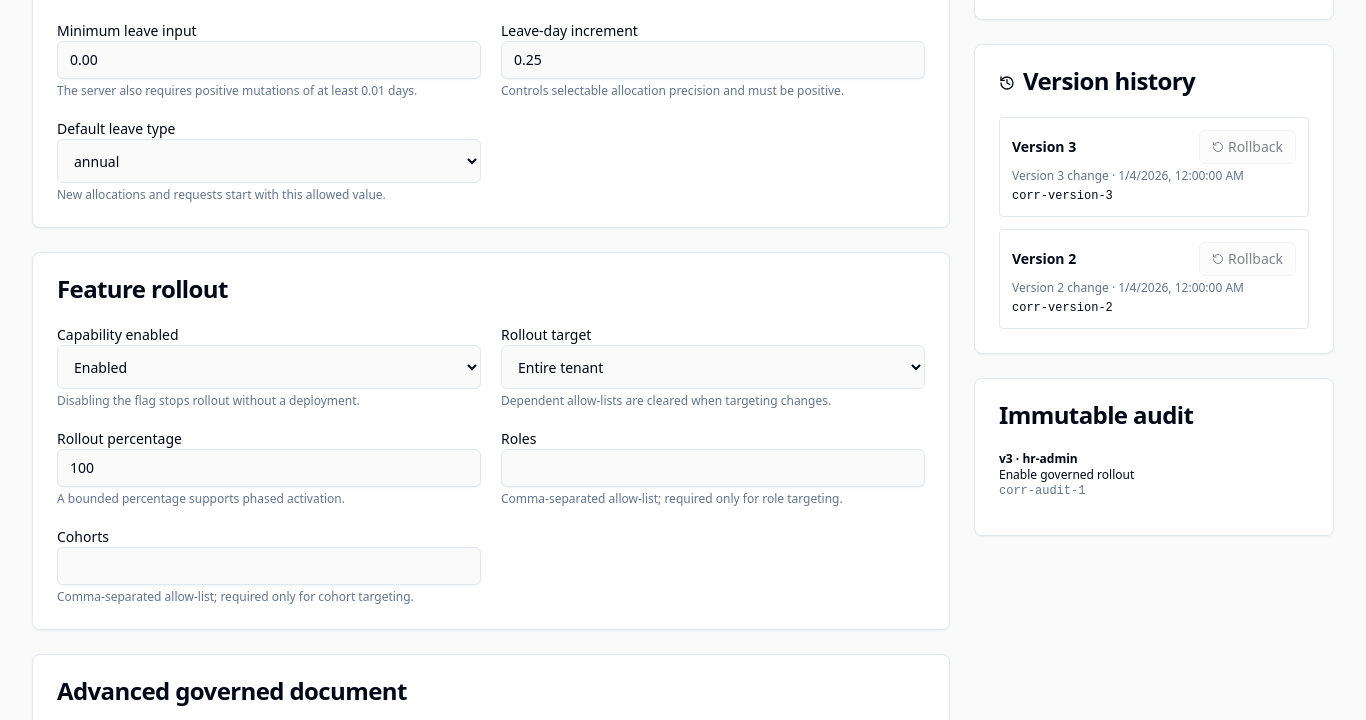
it: Human Resources configuration page › requires rollout allow-lists before role-targeted activation can be previewed
(page scrolled)
Select "Selected roles" in the dropdown labelled "Rollout target" at (713, 367), box [501,345,925,389]
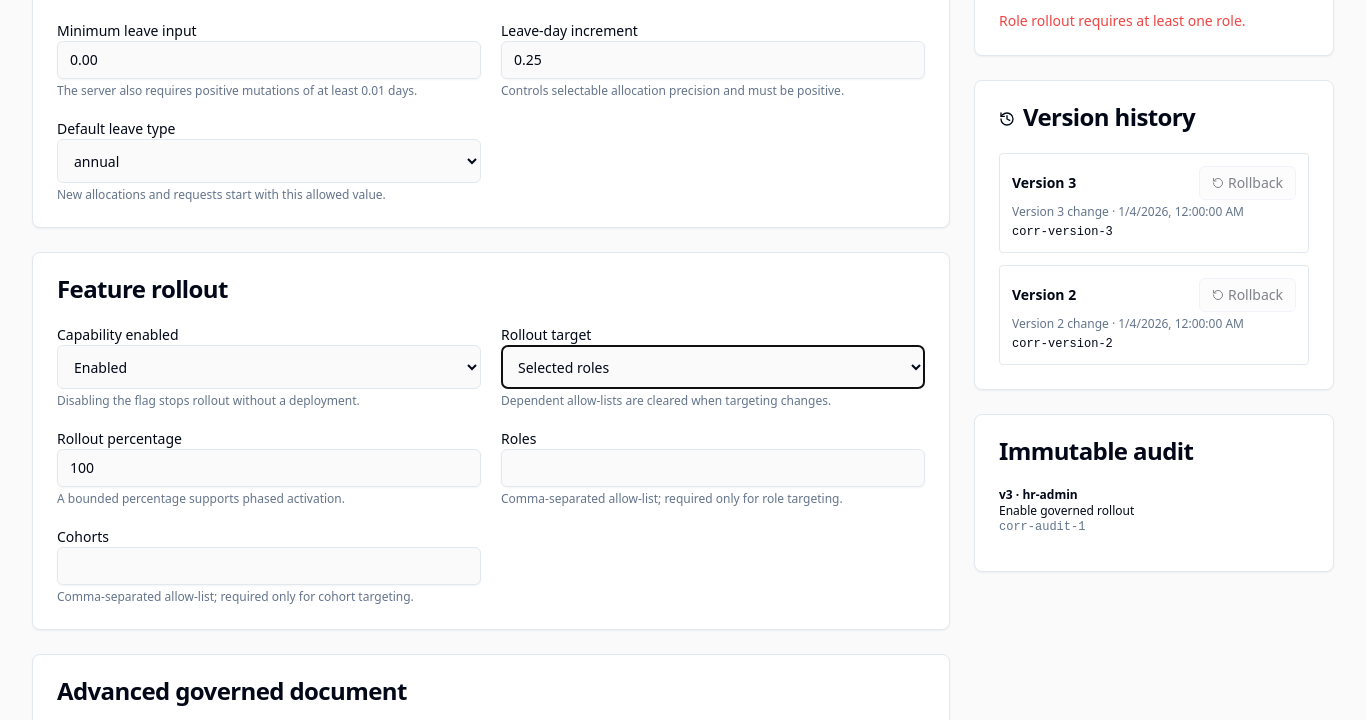
Check: the message reads "Role rollout requires at least one role.", box [999,11,1246,30]
Type "hr-admin, people-ops" into the field labelled "Roles" at (713, 468), box [501,449,925,487]
(page scrolled)
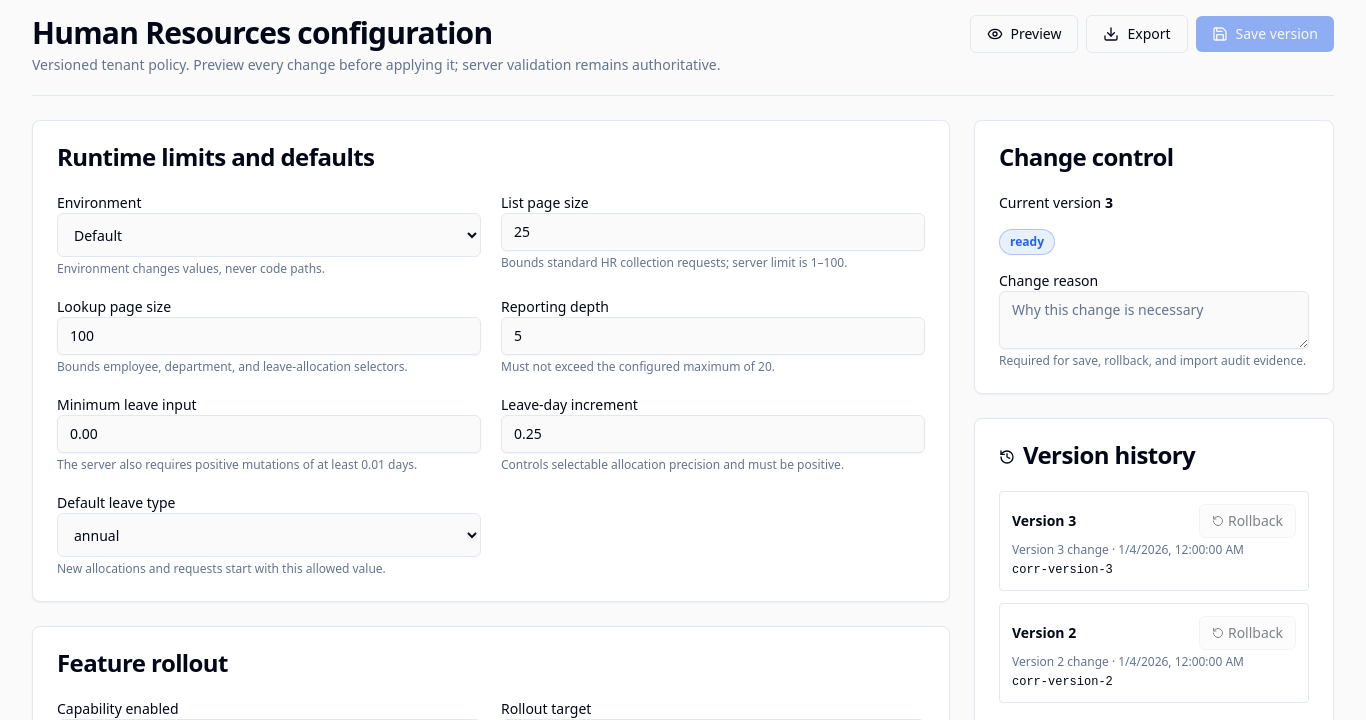
Check: the text "Role rollout requires at least one role." is gone
Check: the button "Preview" is enabled, box [970,15,1078,53]
